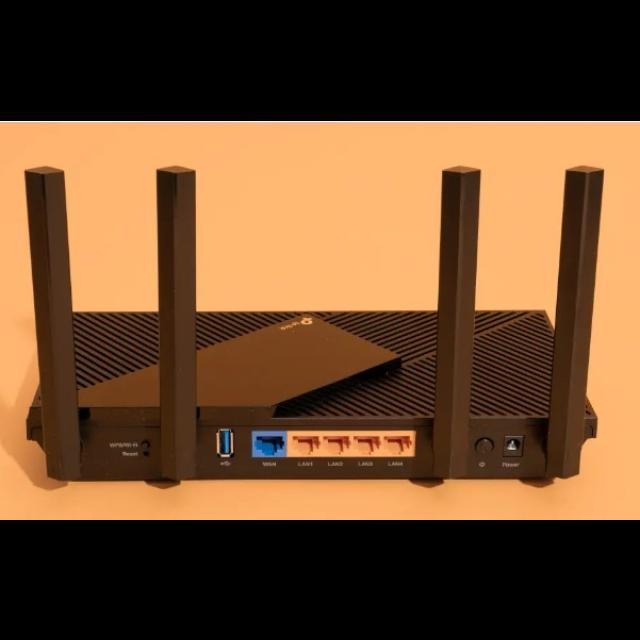Router: (23, 165, 604, 482)
